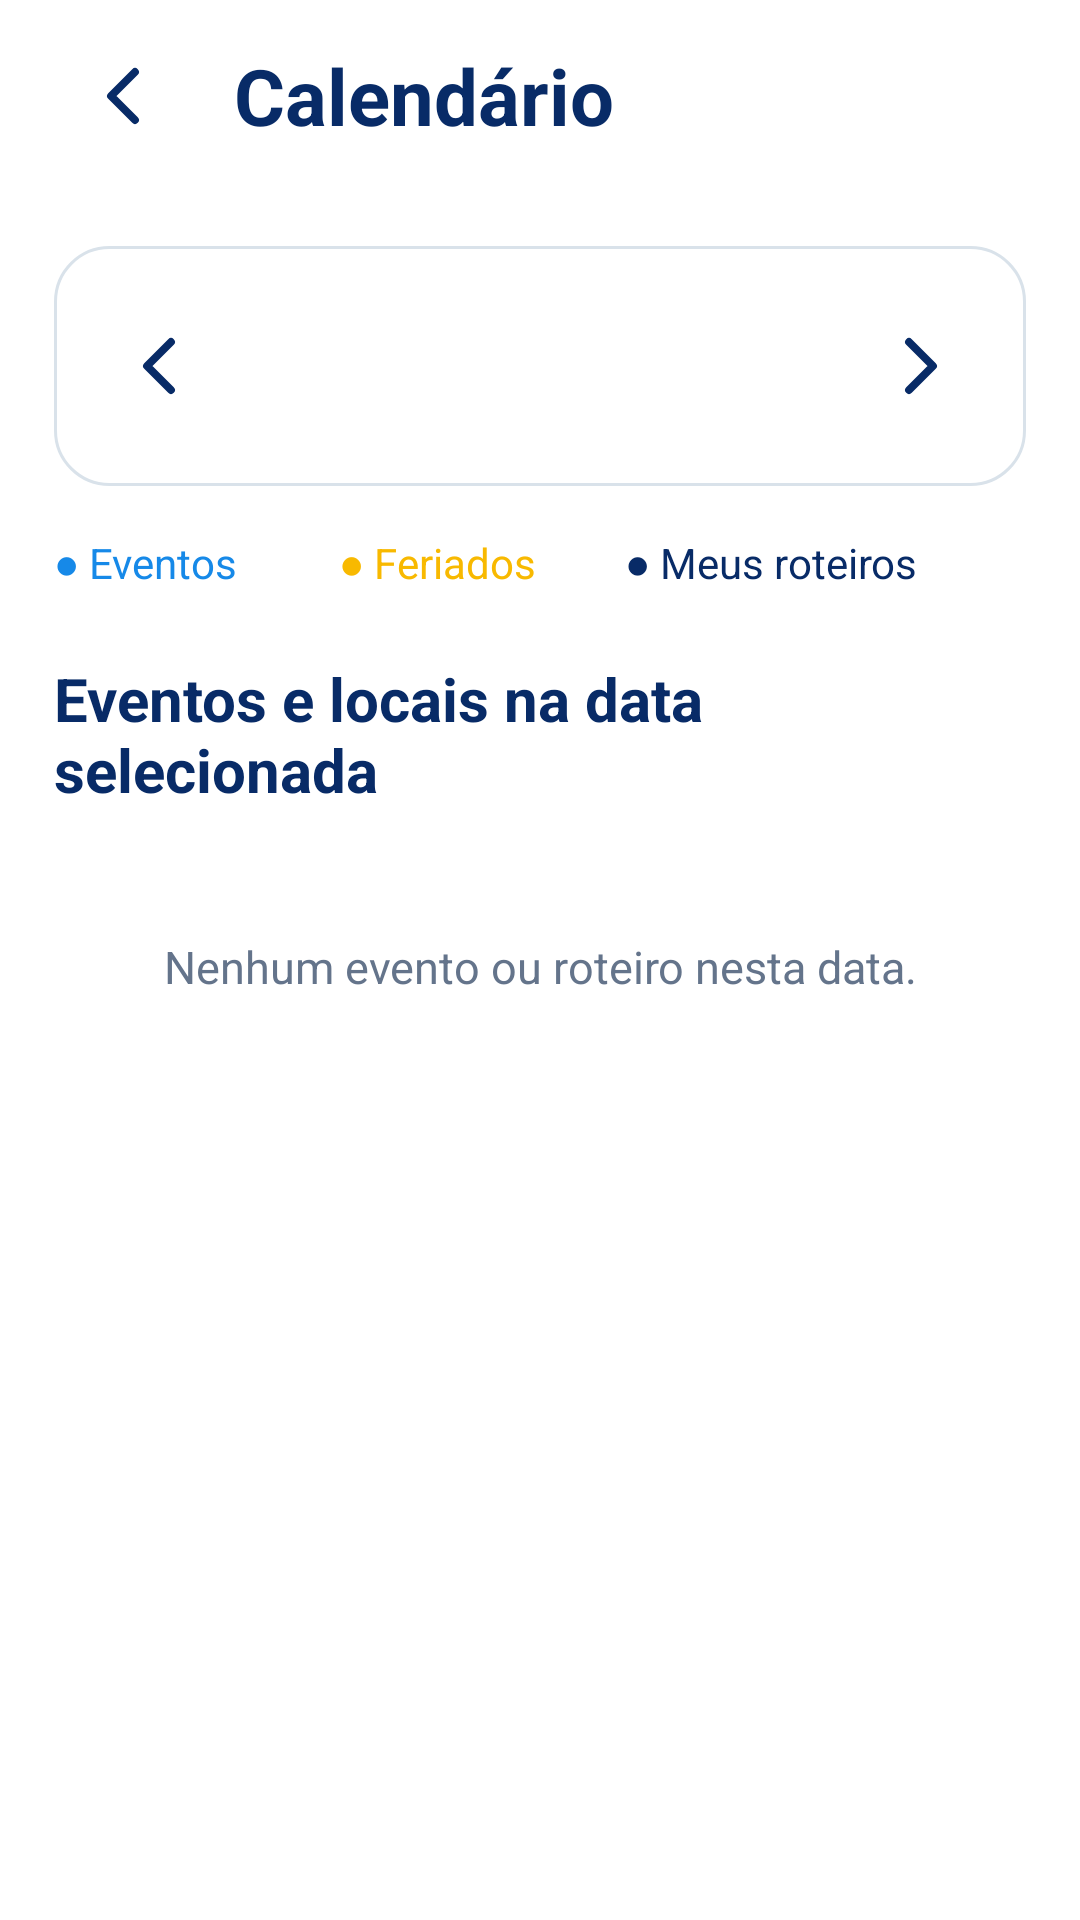

Where to tap for icons on this 1080w x 1920h app screen, as (x=x, y=y):
Mês anterior: (x=159, y=365)
Próximo mês: (x=921, y=365)
Voltar: (x=123, y=95)
